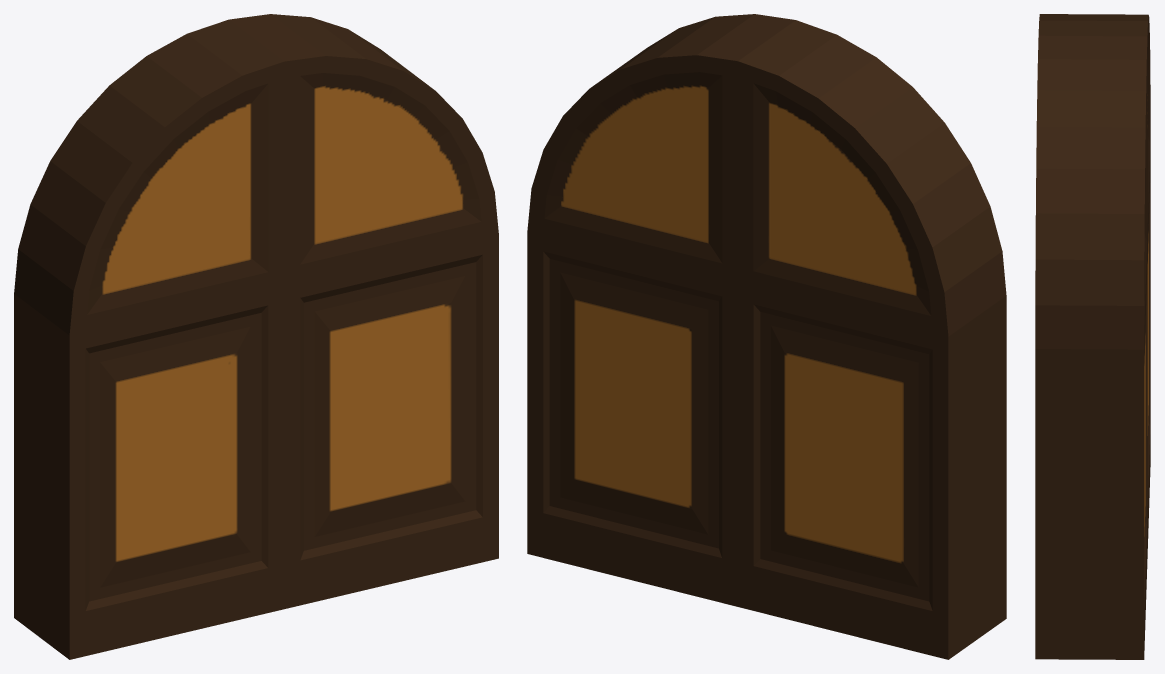
Rendered from KAPI_YENI.fbx.
3 views of the same model, side by side, from view 1: azimuth 30°, elevation 25°; view 2: azimuth 150°, elevation 25°; view 3: azimuth 270°, elevation 25° (orthographic). The views are drawn at different scales.
Parts seen in each view (by area): view 1: kapi; view 2: kapi; view 3: kapi.
Part boxes in pixels (bbox=[...]): kapi: bbox=[14, 14, 498, 659]; kapi: bbox=[527, 14, 1006, 659]; kapi: bbox=[1035, 14, 1150, 659].
Bounding box in the file's own units: 6.97 × 8.53 × 1.7.
Materials: 1 (1 with a texture image).
